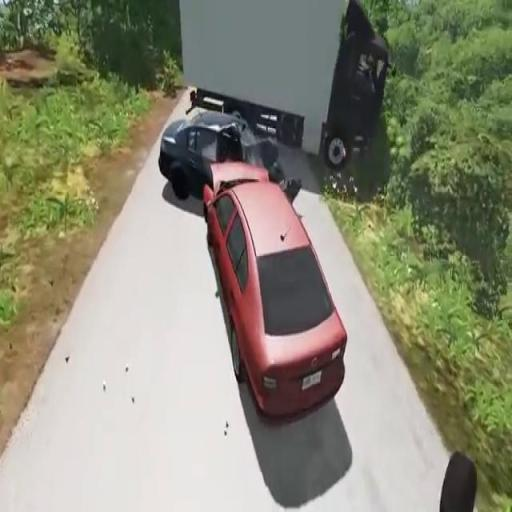小汽车撞小汽车: (159, 112, 346, 424)
小汽车撞物: (183, 0, 411, 163)
